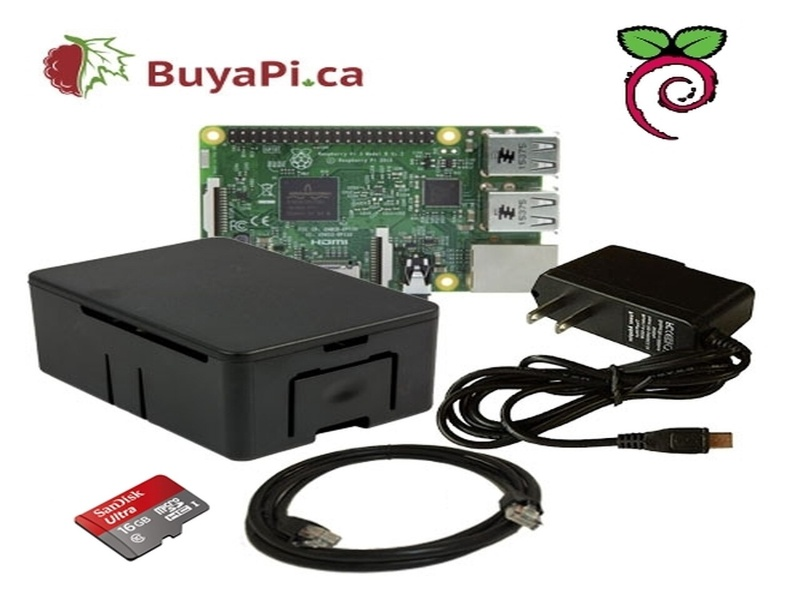raspberrypi: (179, 121, 566, 299)
